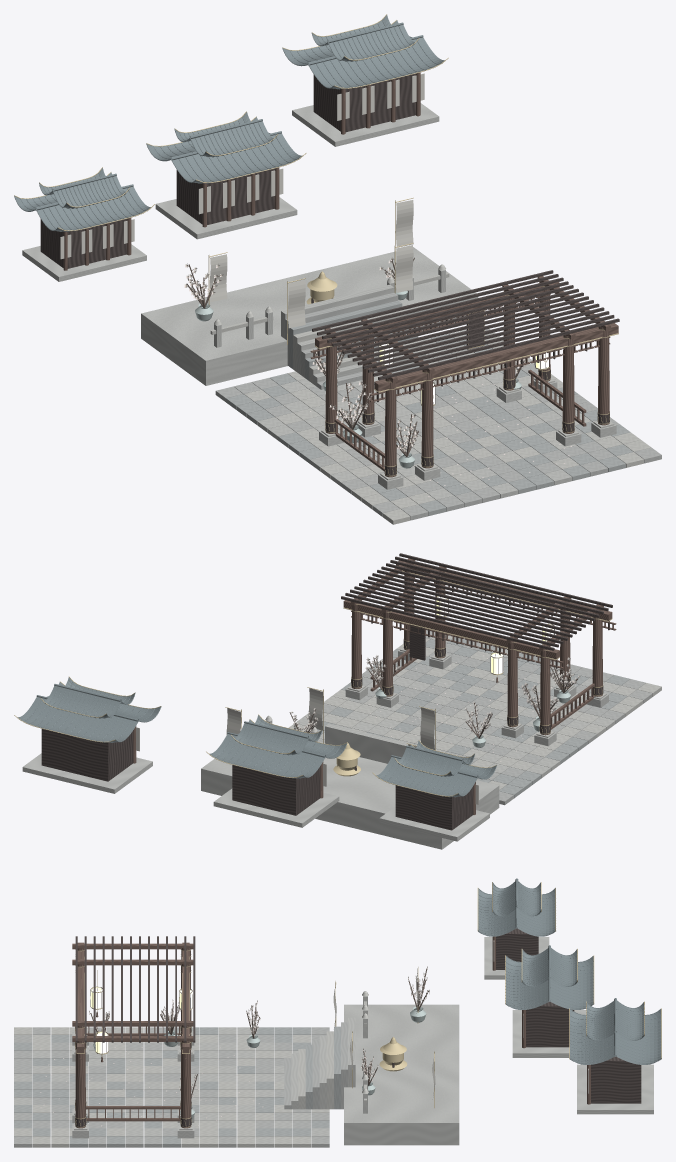
Rendered from courtyard.glb.
3 views of the same model, one above another, from view 1: azimuth 30°, elevation 25°; view 2: azimuth 150°, elevation 25°; view 3: azimuth 270°, elevation 25° (orthographic). The views are drawn at different scales.
Bounding box in the file's own units: 27.64 × 10.16 × 39.37.
14 materials, 10 textured.
